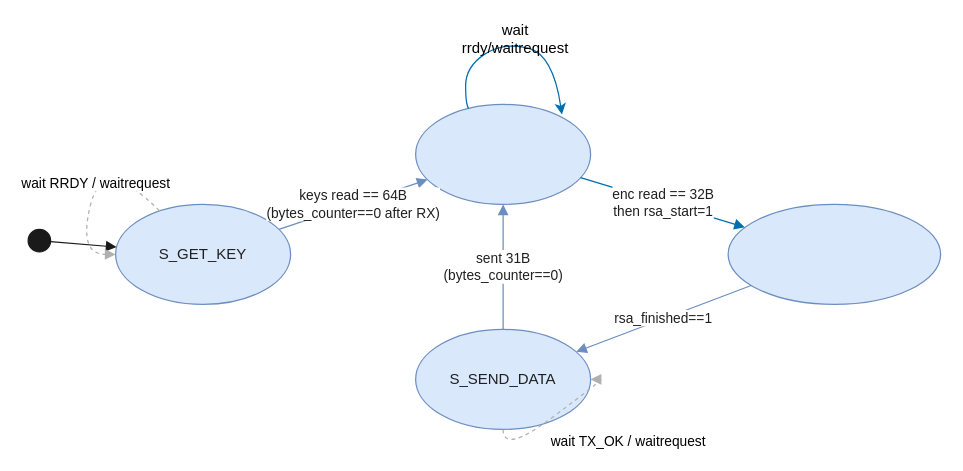
Some shapes in this 963 by 471 pixel diagram are drawn without their labels. The shapes that lost their labels are listed below. From the top down, each one's centre as x and y in pixels, then its label:
At (502,153): "S_GET_DATA".
At (834,253): "S_WAIT_CALCULATE".
